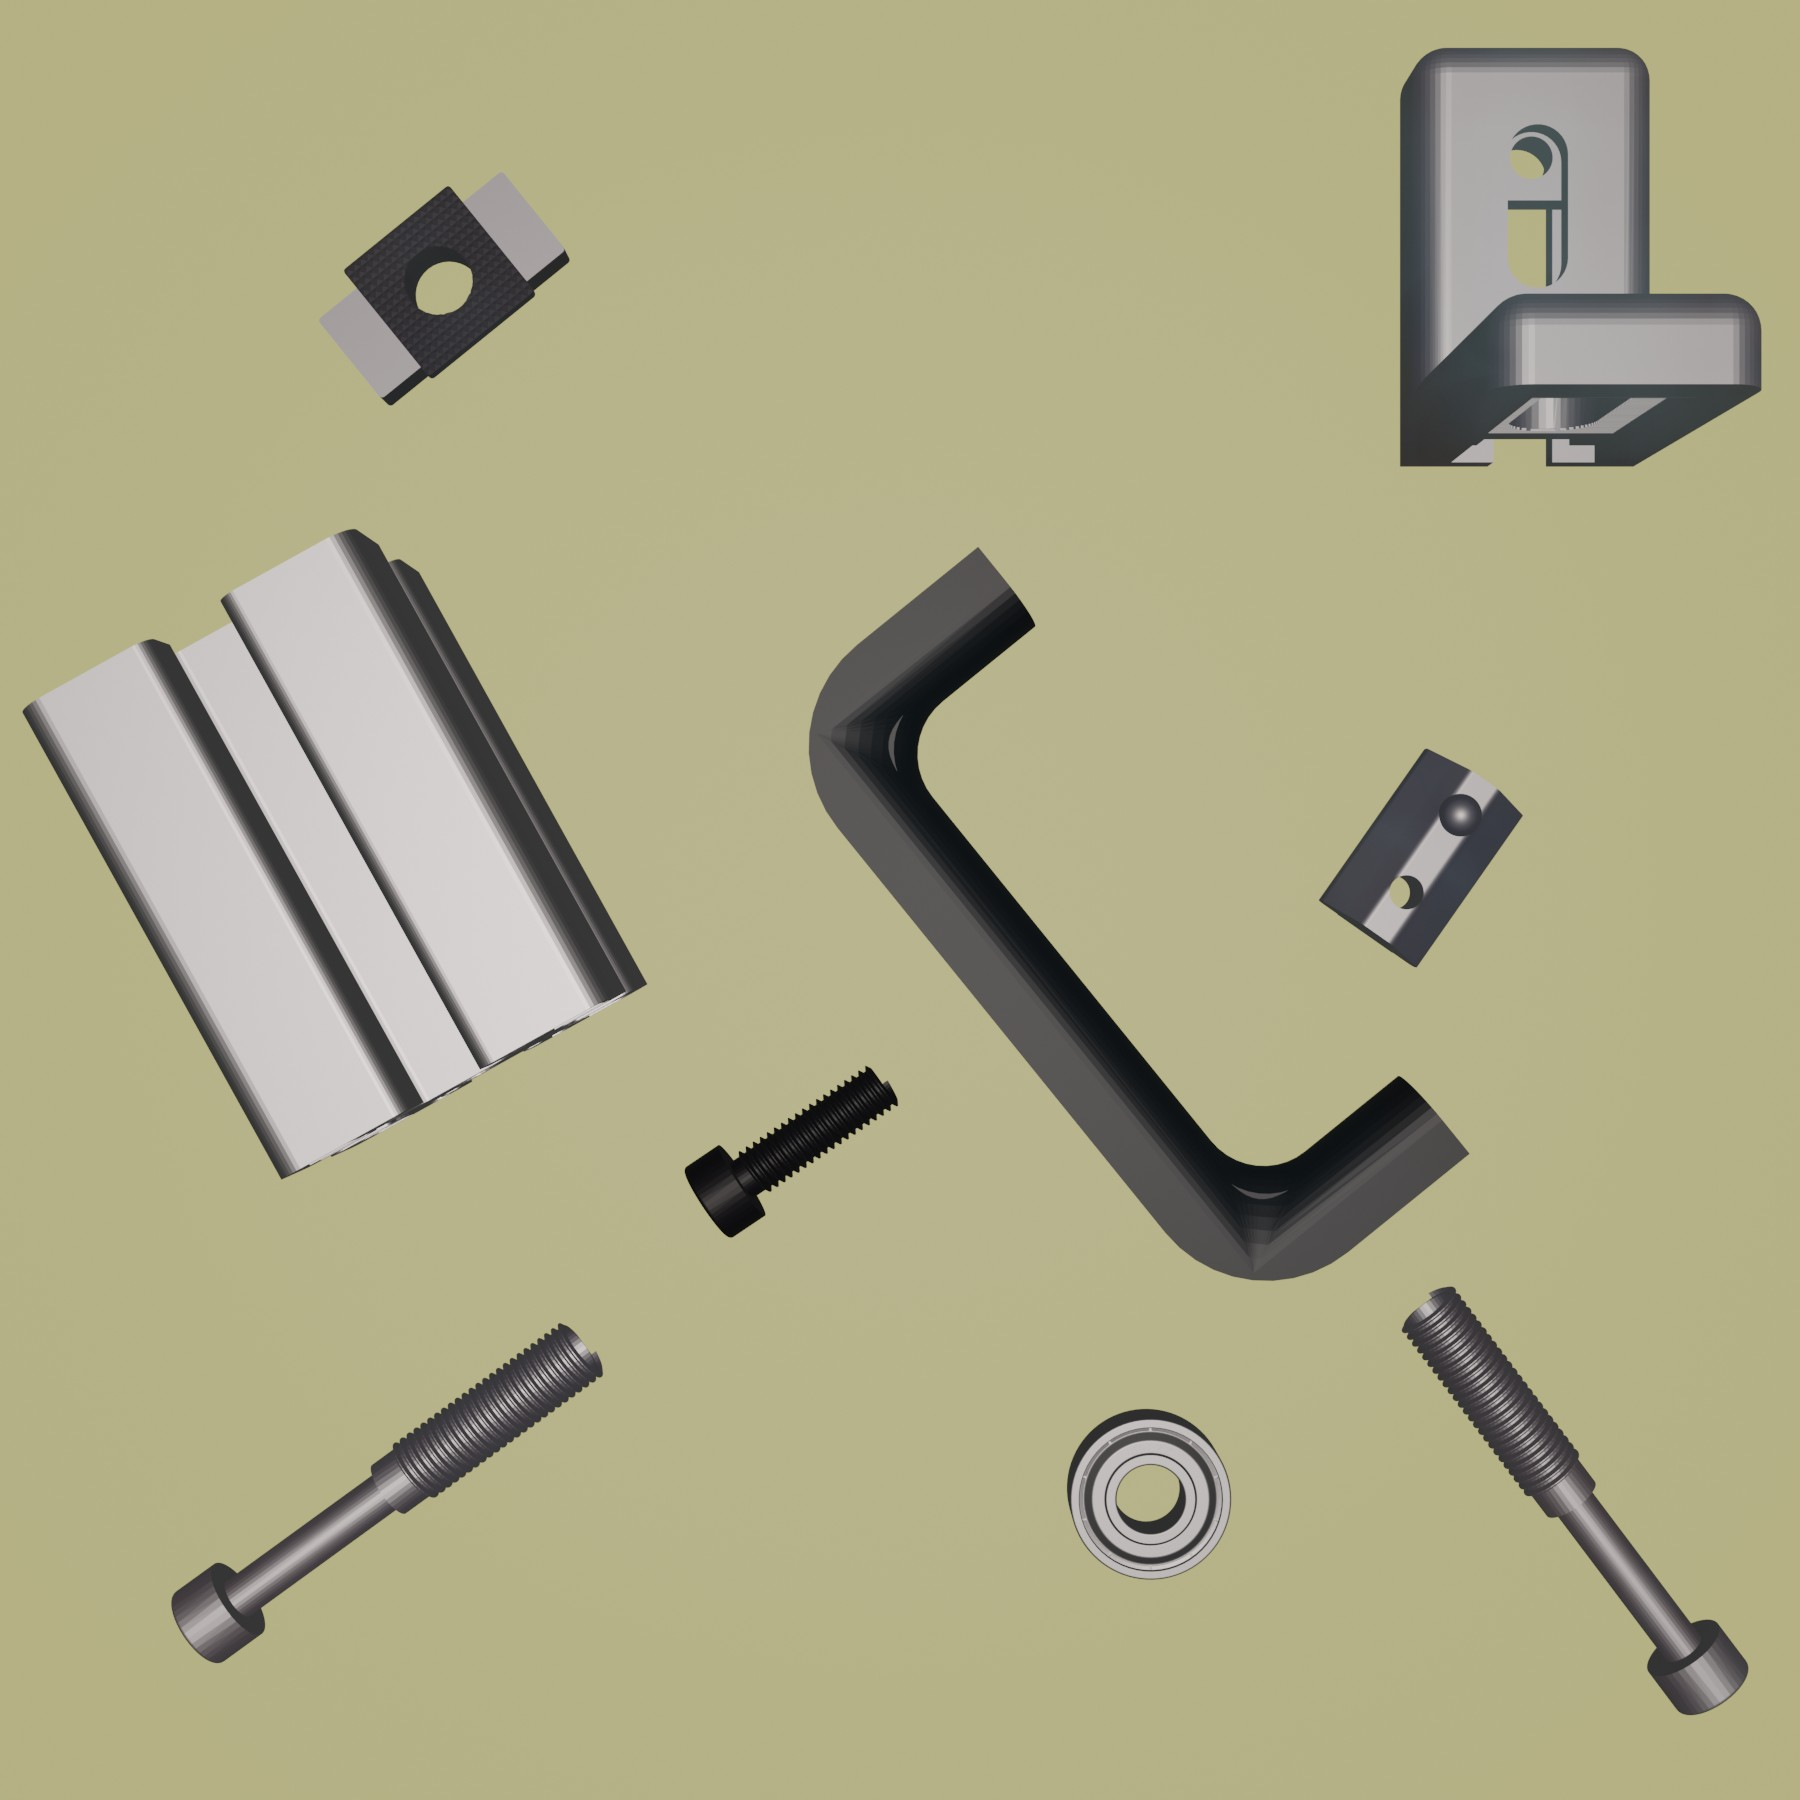Aluminium Extension: (20, 524, 648, 1182)
Ball Bearing: (1063, 1408, 1233, 1582)
Multiwinkel: (1395, 41, 1767, 475)
Pull Handle: (806, 546, 1470, 1282)
Shoulder Socket Head Cap Screw: (1401, 1286, 1751, 1718), (170, 1320, 605, 1666)
Socket Head Cap Screw: (682, 1065, 902, 1241)
T Nut Square: (315, 163, 575, 409)
T Spring Nut: (1315, 743, 1525, 968)
